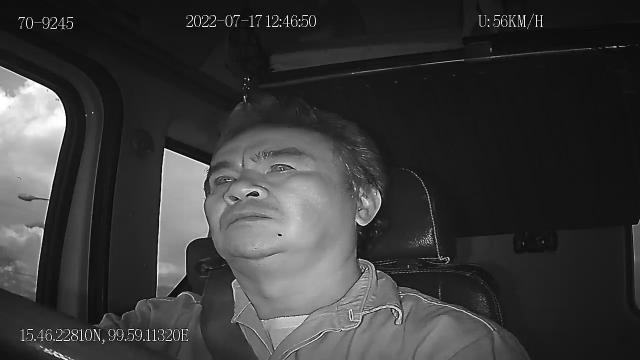SafeDriving: (255, 145, 308, 181), (205, 166, 242, 192)
Seatbelt: (198, 266, 262, 360)
